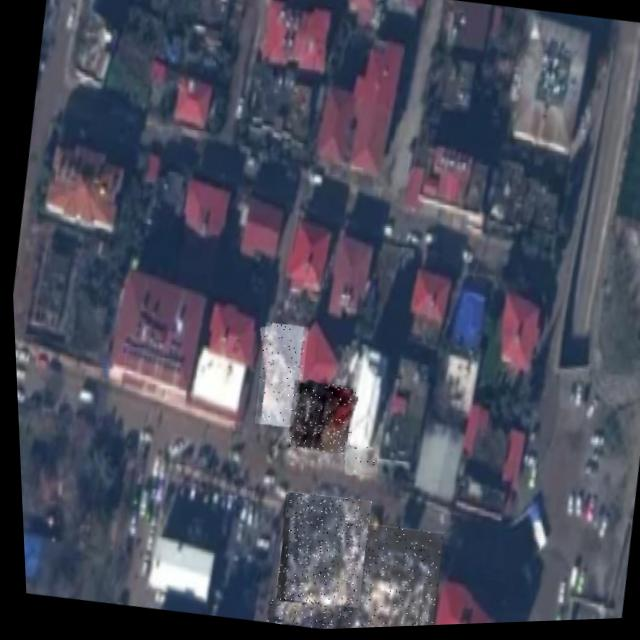Rubble: (265, 490, 371, 614), (340, 524, 441, 631), (247, 323, 309, 432), (281, 380, 355, 459), (260, 597, 348, 633), (337, 446, 375, 481)
